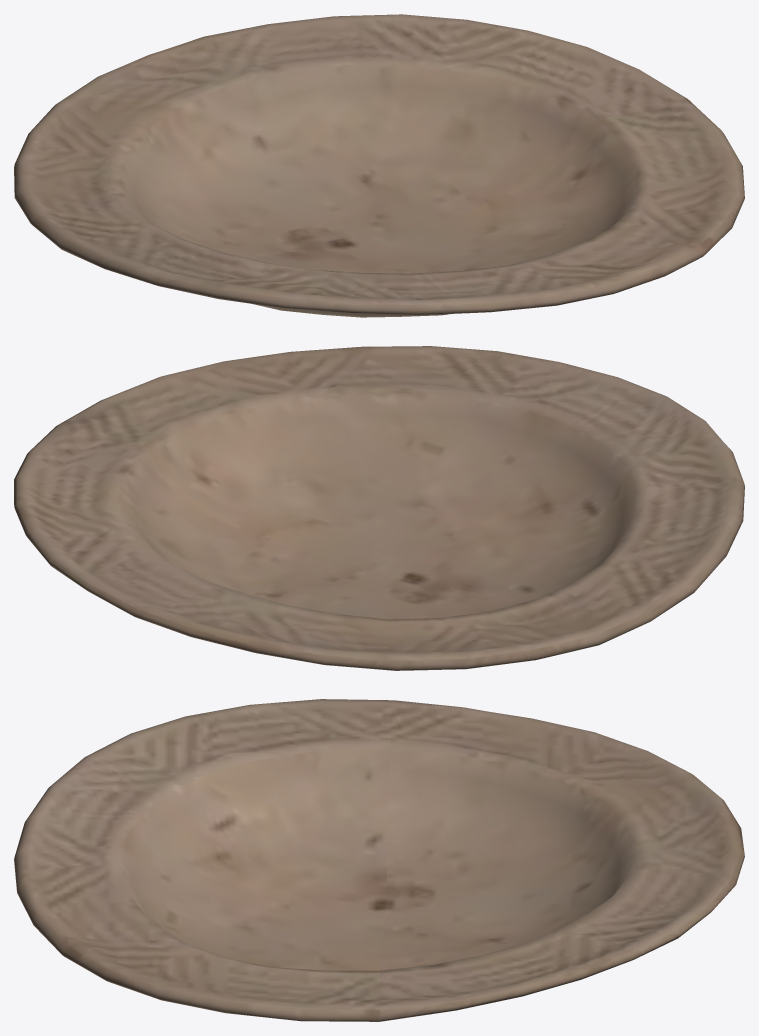
The model's file is carved_wooden_plate.glb.
The picture shows the model from 3 angles, top to bottom: view 1: azimuth 30°, elevation 25°; view 2: azimuth 150°, elevation 25°; view 3: azimuth 270°, elevation 25°; orthographic projection. The views are drawn at different scales.
Visible parts, largest first — view 1: carved_wooden_plate; view 2: carved_wooden_plate; view 3: carved_wooden_plate.
Part boxes in pixels (left/top/right/bottom): carved_wooden_plate: left=14, top=14, right=744, bottom=317; carved_wooden_plate: left=14, top=346, right=744, bottom=670; carved_wooden_plate: left=14, top=699, right=744, bottom=1021.
Bounding box in the file's own units: 0.2718 × 0.0381 × 0.2688.
Materials: 1 (1 with a texture image).
